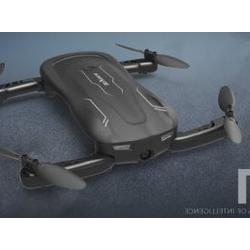drone: (1, 43, 244, 192)
